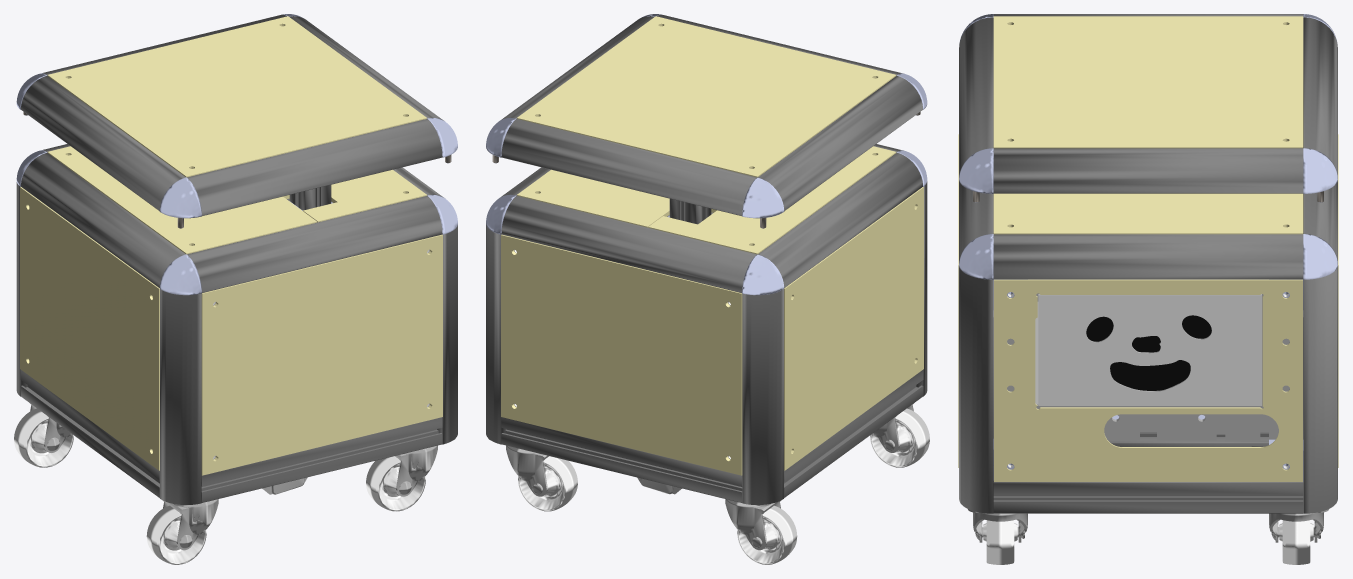
File: cube_petit_body.obj
The picture shows the model from 3 angles, left to right: view 1: azimuth 30°, elevation 25°; view 2: azimuth 150°, elevation 25°; view 3: azimuth 270°, elevation 25°; orthographic projection. The views are drawn at different scales.
Visible parts, largest first — view 1: Solid1:1.004; view 2: Solid1:1.004; view 3: Solid1:1.004.
Part boxes in pixels (x1=…): Solid1:1.004: x1=14, y1=14, x2=457, y2=564; Solid1:1.004: x1=486, y1=14, x2=929, y2=564; Solid1:1.004: x1=958, y1=14, x2=1338, y2=564.
Size of the model in its own units: 0.224 by 0.2755 by 0.221.
